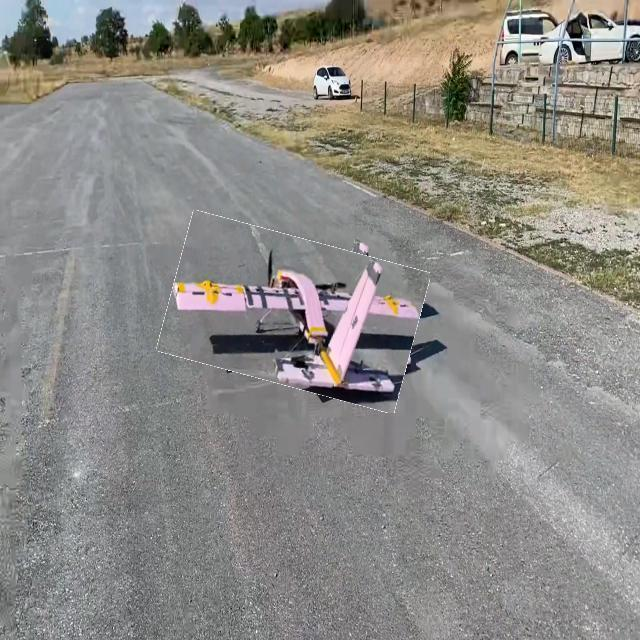iha: (174, 204, 451, 428)
